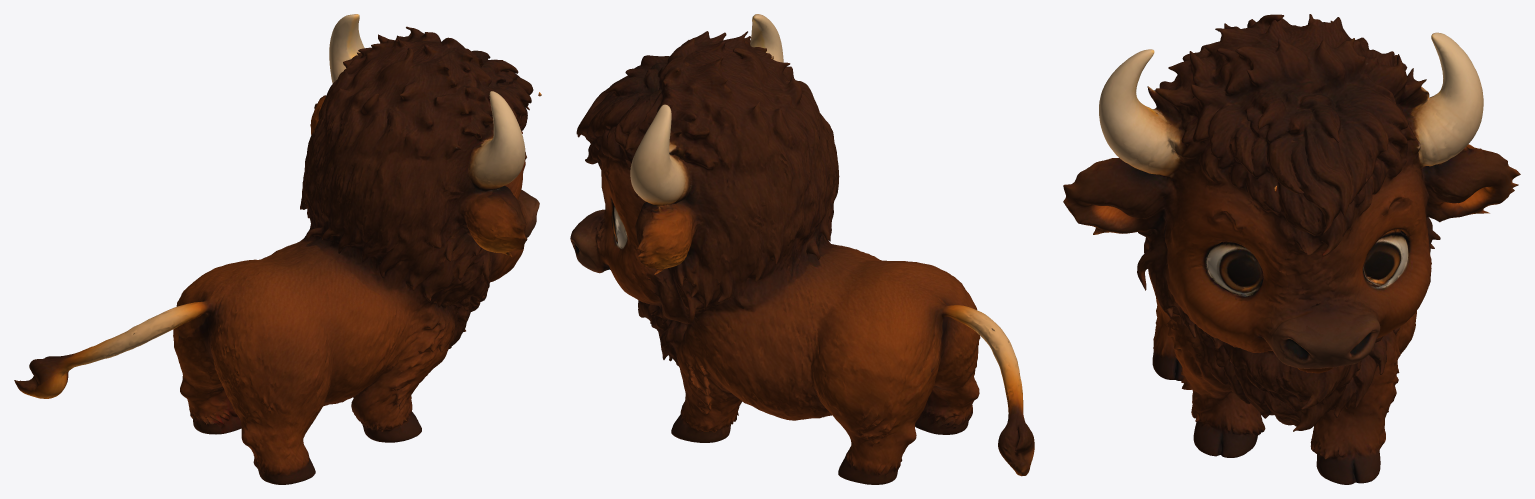
The model's file is Buffalo.mobile.glb.
The picture shows the model from 3 angles, left to right: view 1: azimuth 30°, elevation 25°; view 2: azimuth 150°, elevation 25°; view 3: azimuth 270°, elevation 25°; orthographic projection. The views are drawn at different scales.
Parts seen in each view (by area): view 1: tripo_node_541be127-18e9-4ae9-a96c-bdfd6f46f618; view 2: tripo_node_541be127-18e9-4ae9-a96c-bdfd6f46f618; view 3: tripo_node_541be127-18e9-4ae9-a96c-bdfd6f46f618.
Part boxes in pixels (left/top/right/bottom): tripo_node_541be127-18e9-4ae9-a96c-bdfd6f46f618: left=14, top=14, right=541, bottom=484; tripo_node_541be127-18e9-4ae9-a96c-bdfd6f46f618: left=570, top=14, right=1034, bottom=484; tripo_node_541be127-18e9-4ae9-a96c-bdfd6f46f618: left=1063, top=14, right=1520, bottom=484.
Bounding box in the file's own units: 0.9999 × 0.7247 × 0.6586.
1 material, 1 textured.
